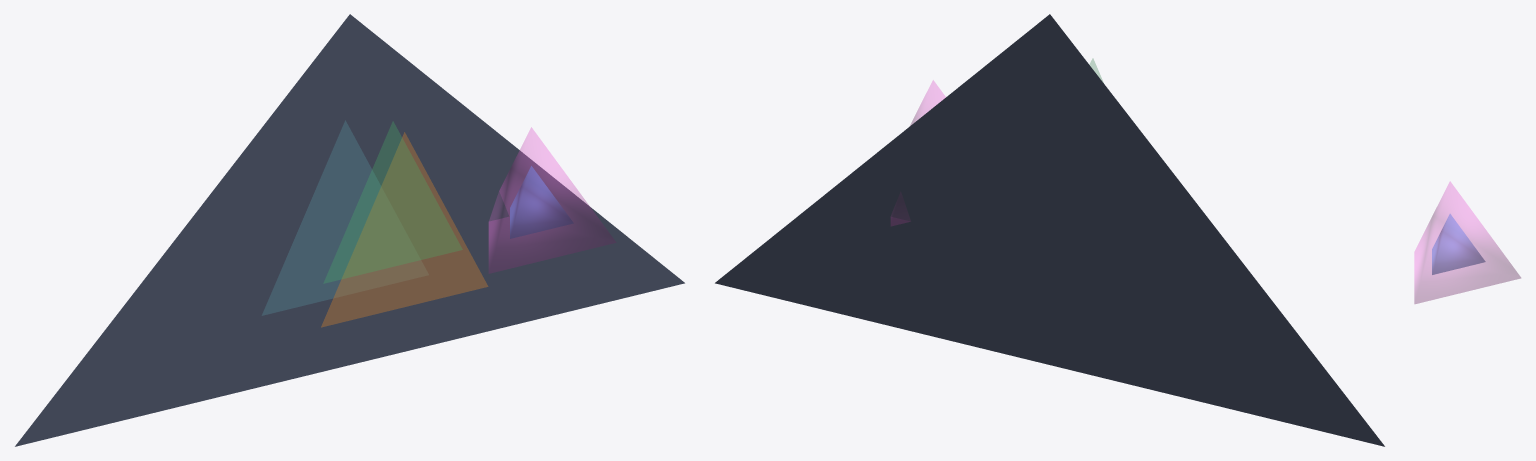
Rendered from transparency_layers.gltf.
3 renders of one model, left to right at view 1: azimuth 30°, elevation 25°; view 2: azimuth 150°, elevation 25°; view 3: azimuth 270°, elevation 25°, orthographic. The views are drawn at different scales.
Visible parts, largest first — view 1: backdrop, amber, green, nested_outer_closed_shell, cyan, nested_inner_closed_shell; view 2: backdrop, nested_outer_closed_shell; view 3: nested_outer_closed_shell, nested_inner_closed_shell.
Boxes of the visible parts, x1=… form: backdrop: x1=15, y1=14, x2=684, y2=446; amber: x1=321, y1=132, x2=488, y2=327; green: x1=323, y1=121, x2=462, y2=283; nested_outer_closed_shell: x1=489, y1=127, x2=616, y2=273; cyan: x1=262, y1=121, x2=380, y2=315; nested_inner_closed_shell: x1=510, y1=166, x2=573, y2=238; backdrop: x1=715, y1=14, x2=1384, y2=446; nested_outer_closed_shell: x1=891, y1=80, x2=945, y2=226; nested_outer_closed_shell: x1=1414, y1=181, x2=1520, y2=303; nested_inner_closed_shell: x1=1432, y1=214, x2=1485, y2=274.
Bounding box in the file's own units: 9 × 4.5 × 1.48.
